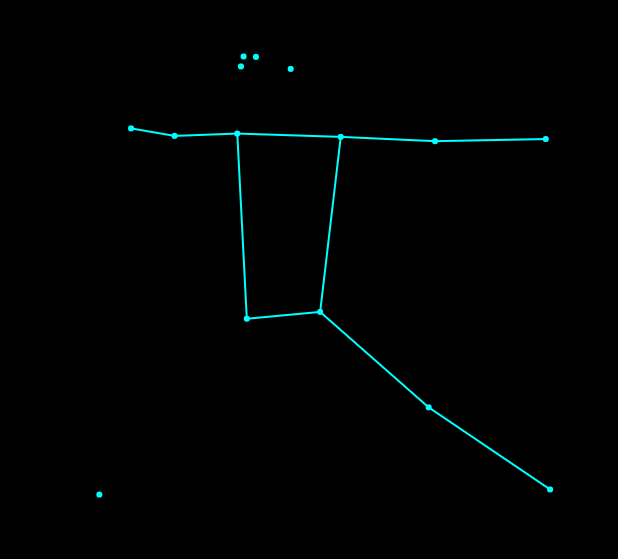warrior_2: (90, 42, 557, 504)
